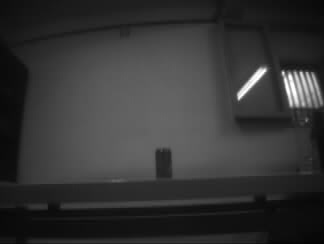Tin can: (154, 147, 173, 178)
